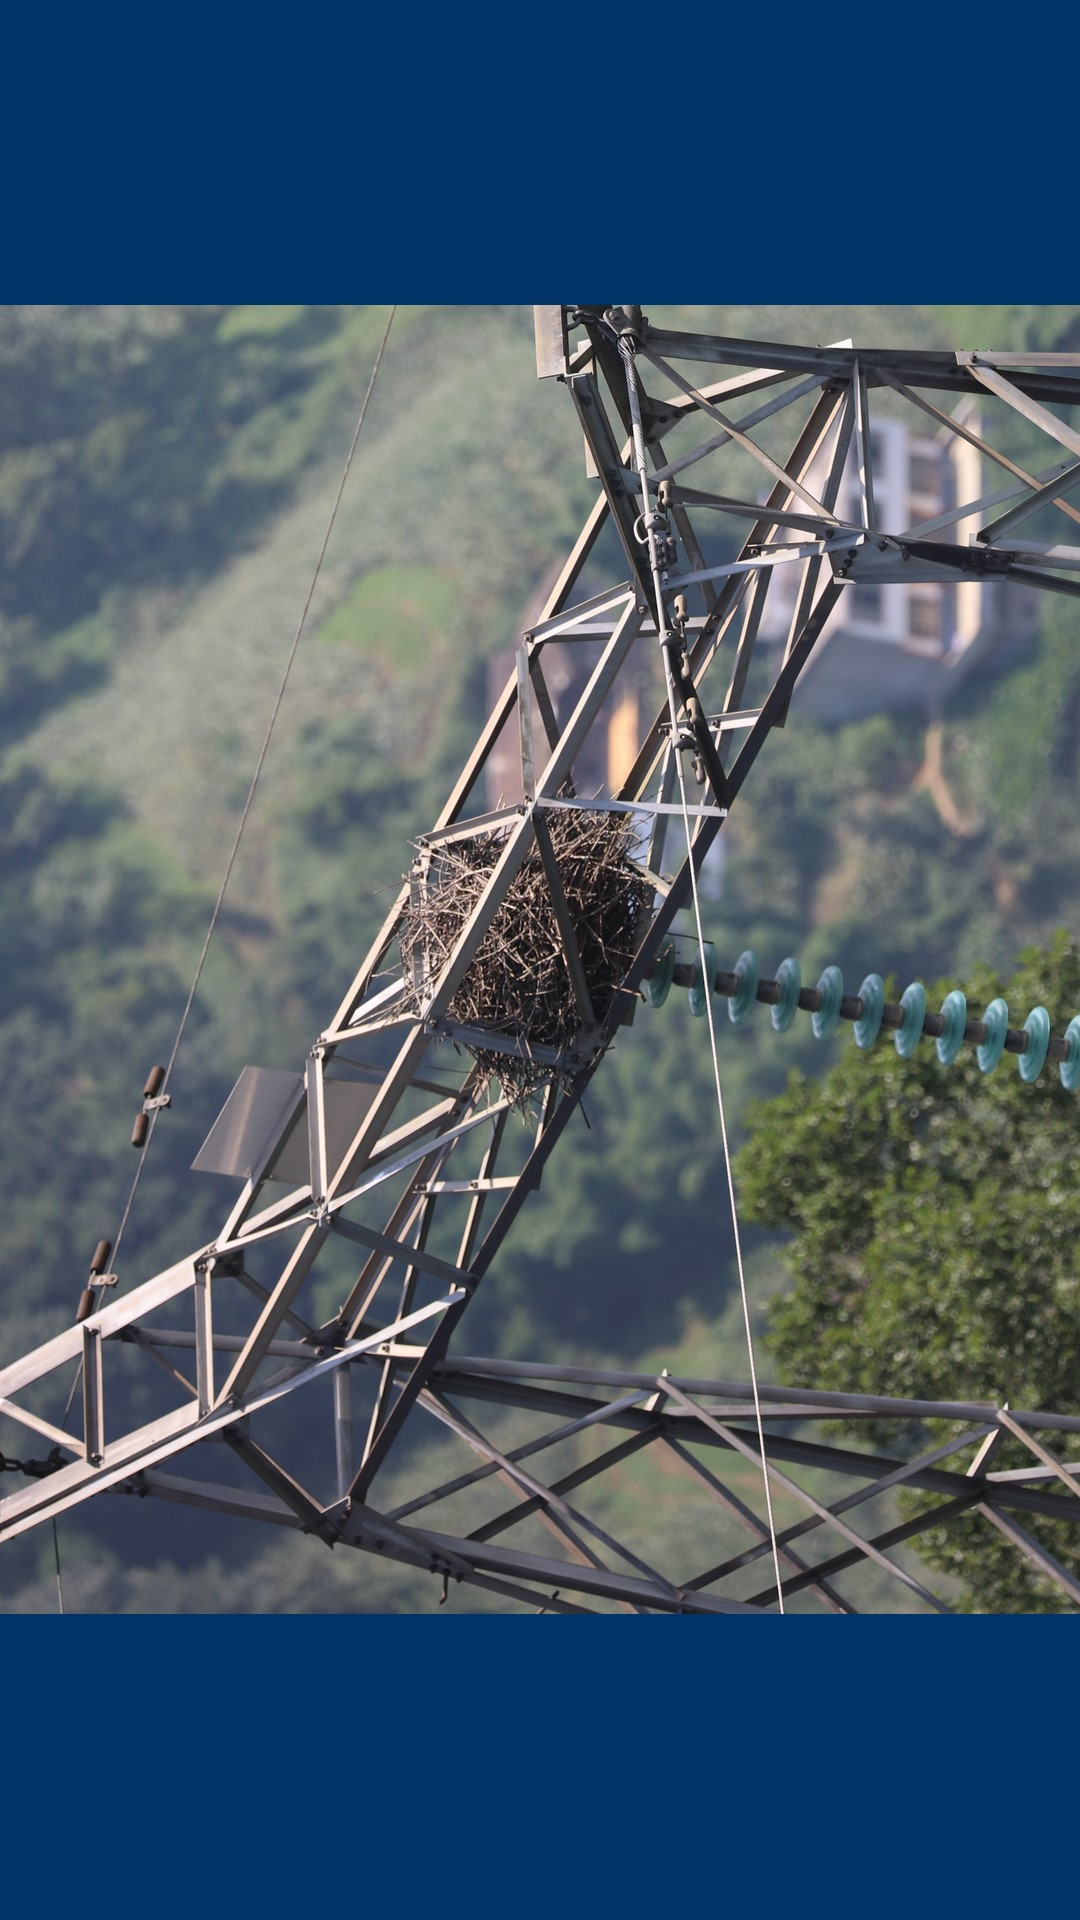niaowo: (363, 771, 675, 1084)
